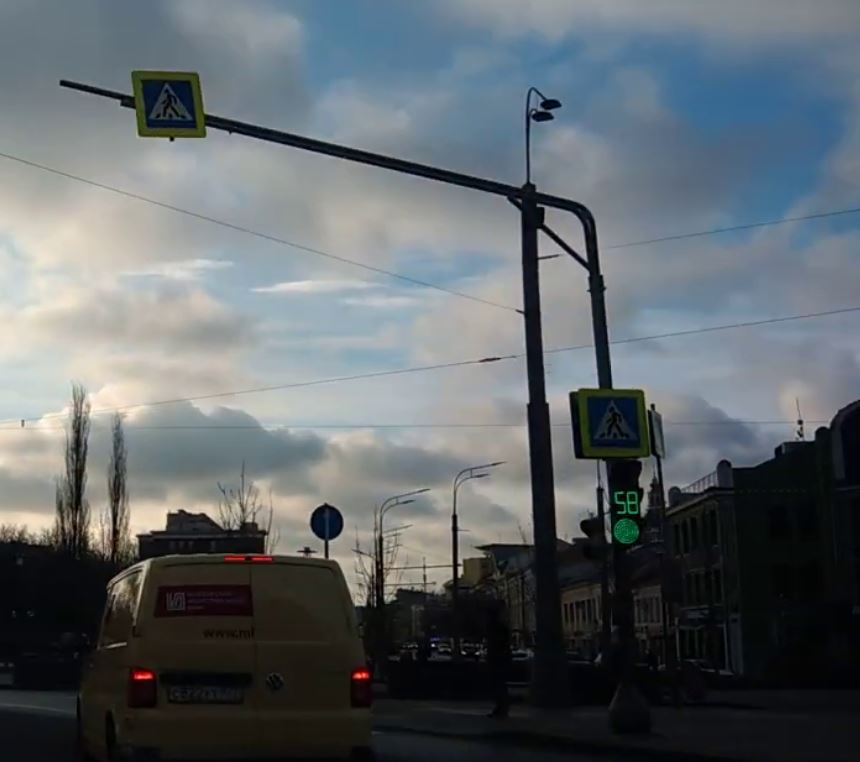Yaya Gecidi: (135, 75, 197, 127), (587, 397, 643, 450)
